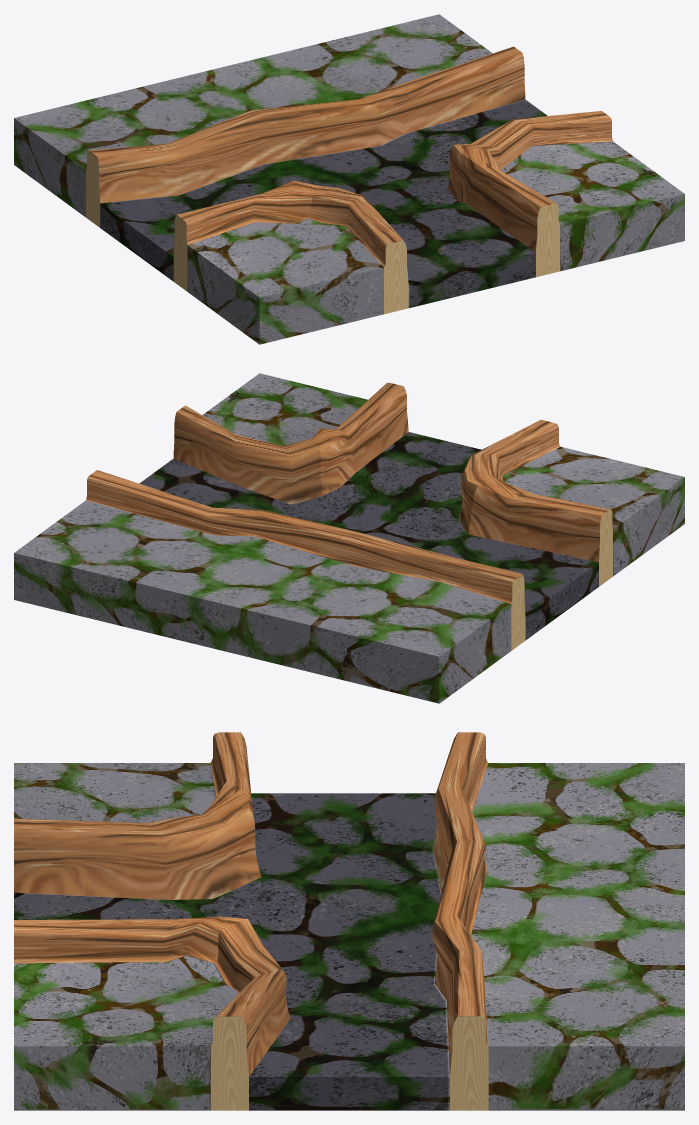
Rendered from TShape.fbx.
3 renders of one model, top to bottom at view 1: azimuth 30°, elevation 25°; view 2: azimuth 150°, elevation 25°; view 3: azimuth 270°, elevation 25°, orthographic. The views are drawn at different scales.
Parts seen in each view (by area): view 1: T_Shape; view 2: T_Shape; view 3: T_Shape.
Boxes of the visible parts, x1,y1,x2,y2 form: T_Shape: (14,14,684,344); T_Shape: (14,373,684,703); T_Shape: (14,732,684,1110).
Size of the model in its own units: 200 by 32.93 by 200.
